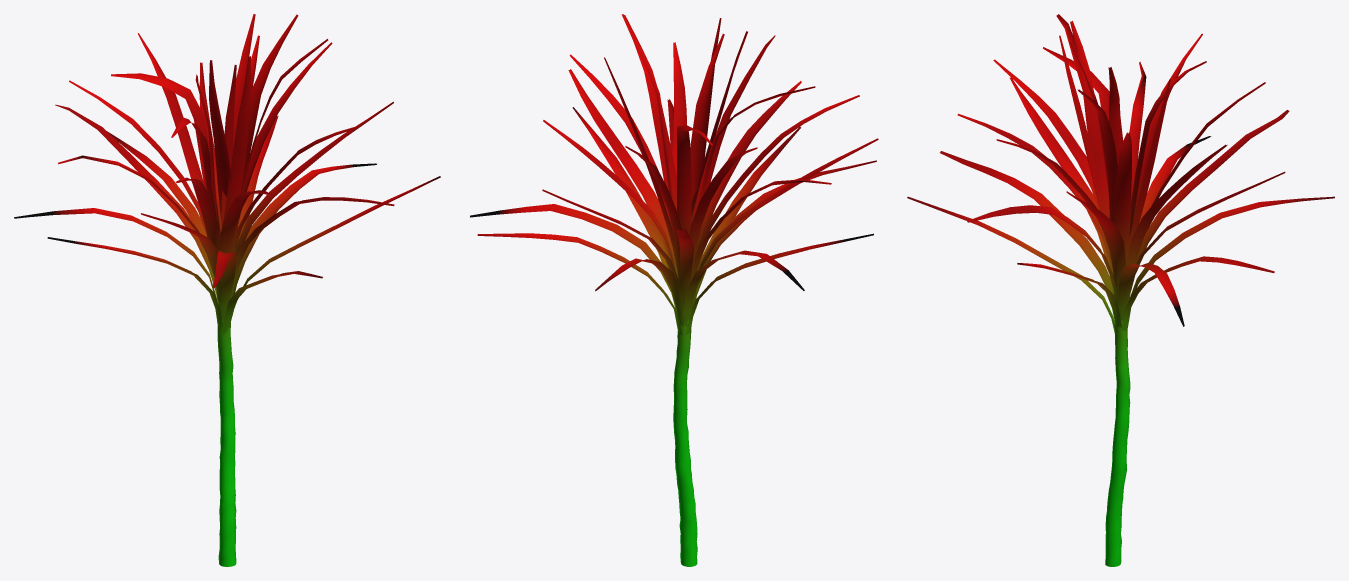
Rendered from Dragon Tree_LOD1_Var8_wfypejzha.fbx.
3 views of the same model, side by side, from view 1: azimuth 30°, elevation 25°; view 2: azimuth 150°, elevation 25°; view 3: azimuth 270°, elevation 25° (orthographic).
Parts seen in each view (by area): view 1: _6sc5_Var8_LOD1; view 2: _6sc5_Var8_LOD1; view 3: _6sc5_Var8_LOD1.
Part boxes in pixels (x1,y1,x2,y2): _6sc5_Var8_LOD1: [14, 14, 440, 566]; _6sc5_Var8_LOD1: [470, 14, 878, 566]; _6sc5_Var8_LOD1: [907, 14, 1334, 566].
Size of the model in its own units: 31.79 by 44.08 by 32.25.
